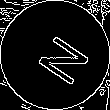N_NW: (23, 25, 87, 85)
